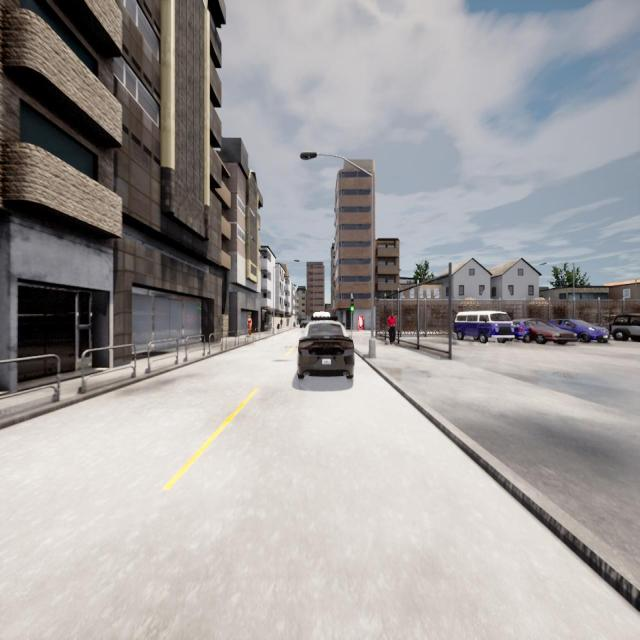Pedestrian: (387, 313, 396, 344), (247, 314, 252, 336)
Vehicle: (298, 321, 354, 378), (454, 311, 514, 343), (514, 320, 577, 344), (550, 319, 608, 343), (611, 314, 640, 339), (313, 312, 330, 318)
traffic_light: (351, 297, 354, 312)
